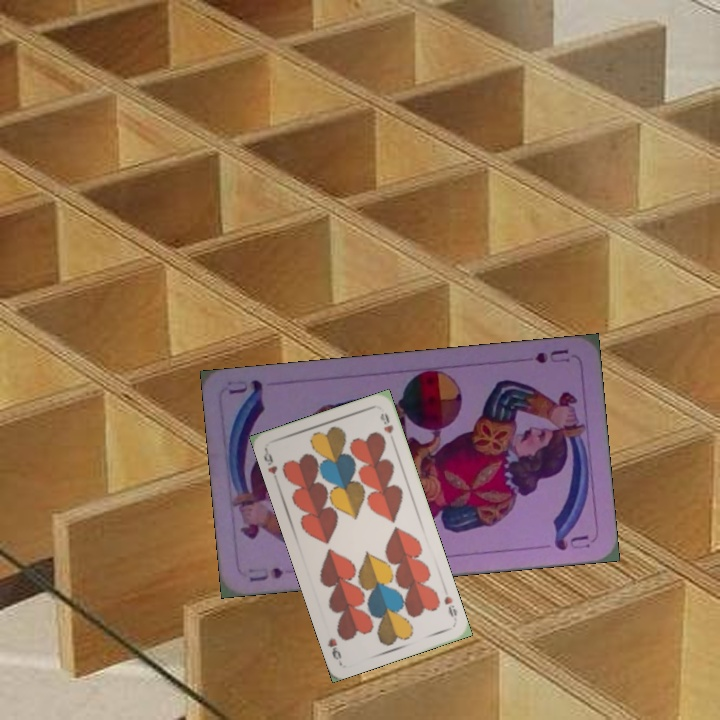H9: (259, 446, 281, 485), (440, 592, 460, 620)
SU: (244, 562, 286, 584), (531, 345, 572, 366)
